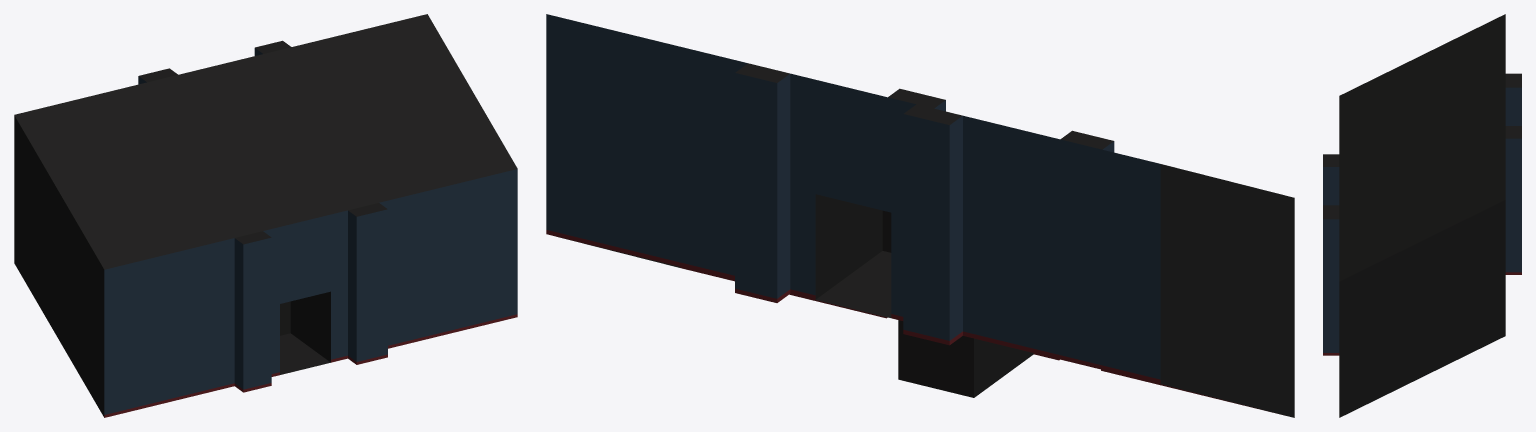
Rendered from elevator_wall.fbx.
3 renders of one model, left to right at view 1: azimuth 30°, elevation 25°; view 2: azimuth 150°, elevation 25°; view 3: azimuth 270°, elevation 25°, orthographic. The views are drawn at different scales.
Parts seen in each view (by area): view 1: elevator_wall; view 2: elevator_wall; view 3: elevator_wall.
Part boxes in pixels (bbox=[...]): elevator_wall: bbox=[14, 14, 517, 417]; elevator_wall: bbox=[546, 14, 1294, 417]; elevator_wall: bbox=[1323, 14, 1521, 417].
Size of the model in its own units: 14.6 by 6.6 by 8.
